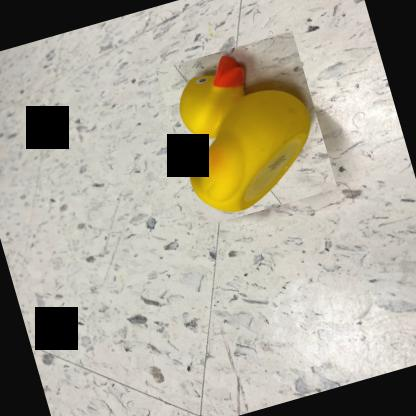duck: (156, 31, 338, 228)
